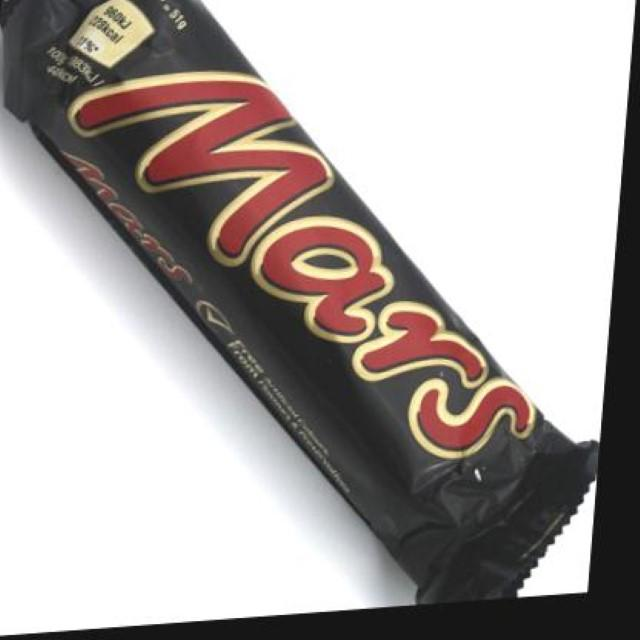mars_chocolate: (52, 31, 595, 576)
